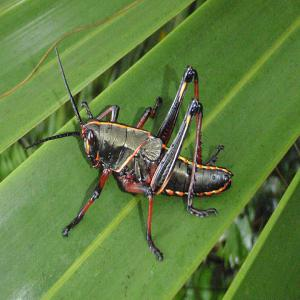locust: (53, 66, 246, 241)
